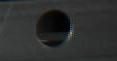holes: (32, 8, 72, 49)
